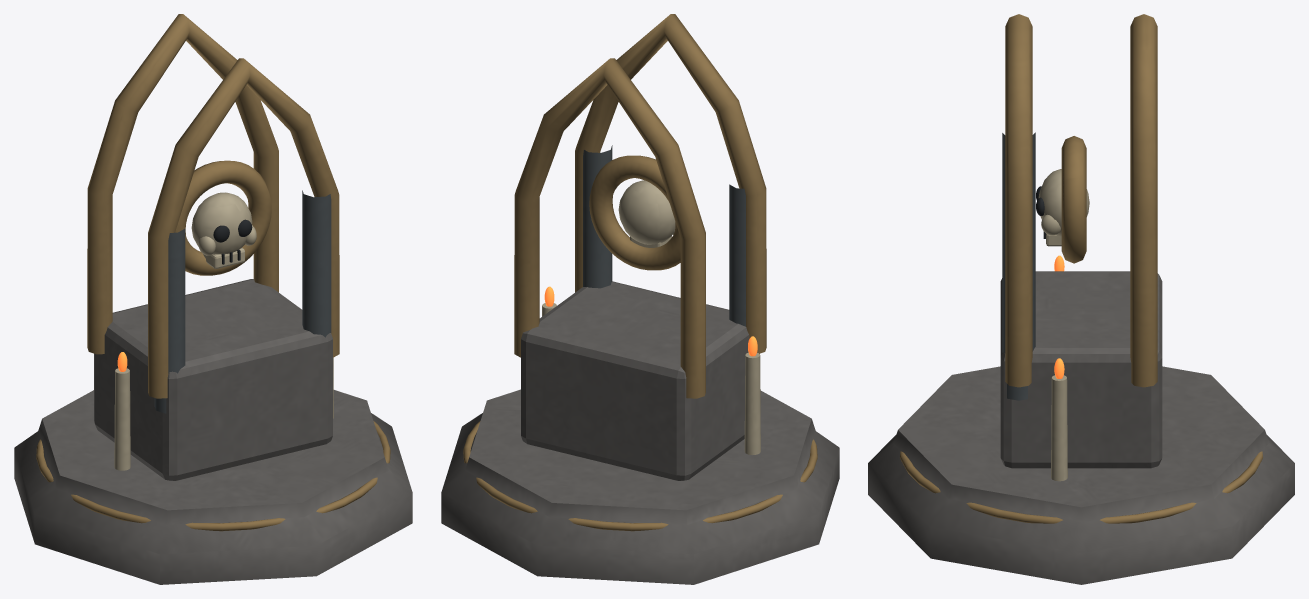
The model's file is fortune_shrine.glb.
3 renders of one model, left to right at view 1: azimuth 30°, elevation 25°; view 2: azimuth 150°, elevation 25°; view 3: azimuth 270°, elevation 25°, orthographic. The views are drawn at different scales.
Visible parts, largest first — view 1: fortune_shrine; view 2: fortune_shrine; view 3: fortune_shrine.
Part boxes in pixels (bbox=[...]): fortune_shrine: bbox=[14, 14, 412, 584]; fortune_shrine: bbox=[441, 14, 839, 584]; fortune_shrine: bbox=[868, 14, 1294, 584].
Bounding box in the file's own units: 1.16 × 1.44 × 1.16.
6 materials, 5 textured.
